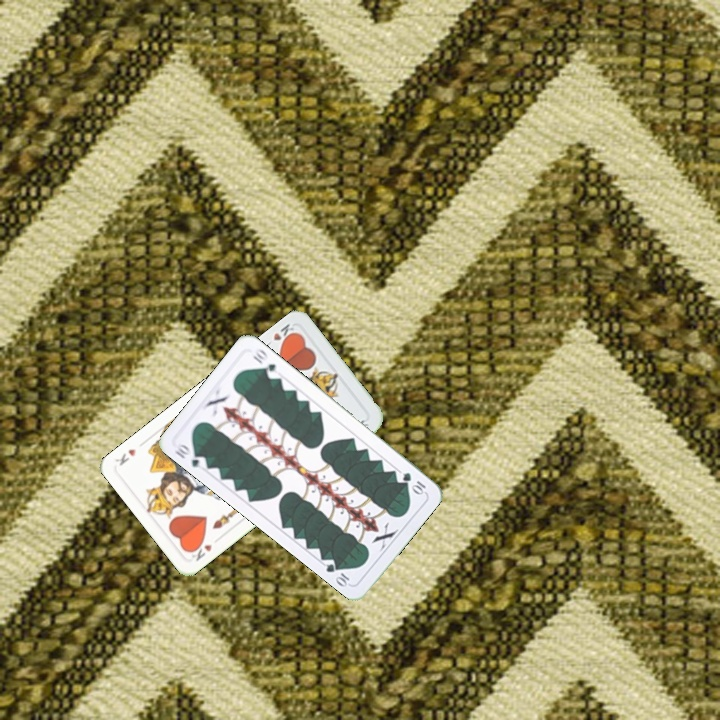G10: (170, 439, 210, 472), (398, 468, 429, 497)
HK: (261, 320, 300, 350), (184, 537, 215, 564)
